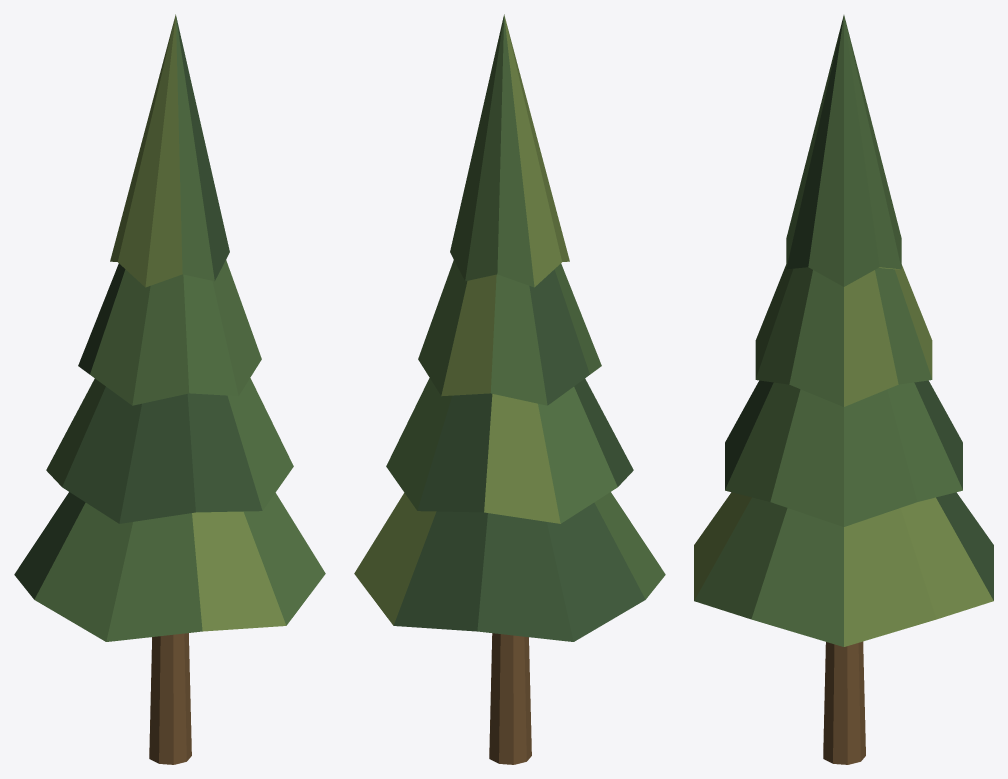
The model's file is BP_Pine_Tall.fbx.
3 renders of one model, left to right at view 1: azimuth 30°, elevation 25°; view 2: azimuth 150°, elevation 25°; view 3: azimuth 270°, elevation 25°, orthographic.
Visible parts, largest first — view 1: BP_Pine_Tall; view 2: BP_Pine_Tall; view 3: BP_Pine_Tall.
Part boxes in pixels (left/top/right/bottom): BP_Pine_Tall: left=14, top=14, right=325, bottom=764; BP_Pine_Tall: left=354, top=14, right=665, bottom=764; BP_Pine_Tall: left=694, top=15, right=993, bottom=764.
Bounding box in the file's own units: 210 × 547 × 200.
